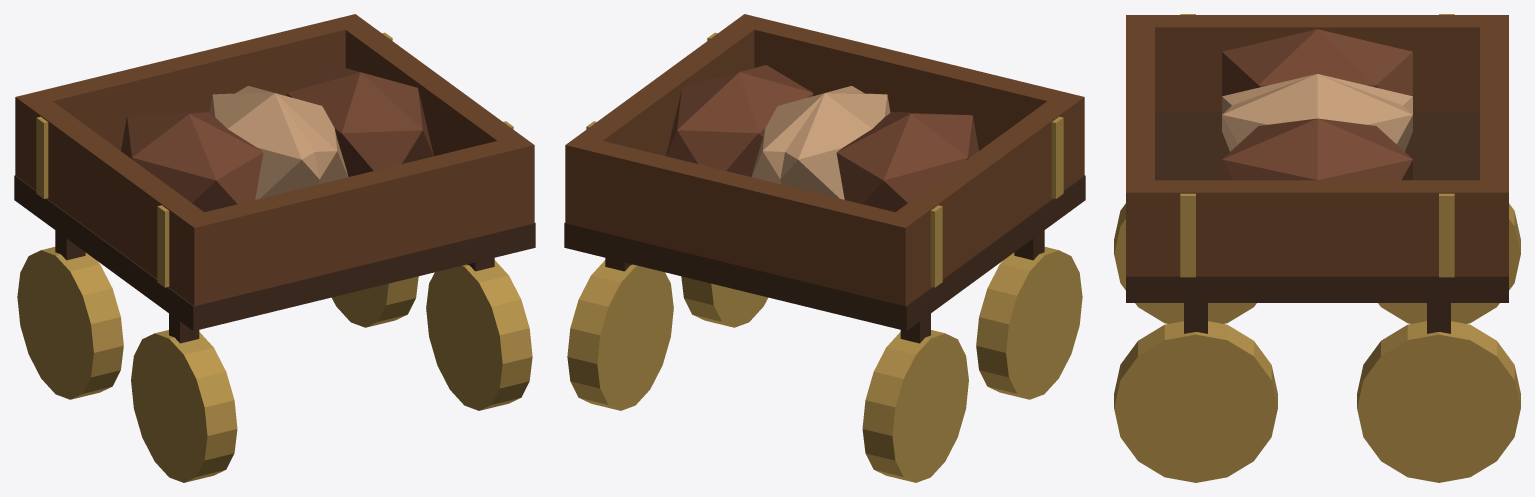
File: Desert_OreCartTunnel_Standard.glb
The picture shows the model from 3 angles, left to right: view 1: azimuth 30°, elevation 25°; view 2: azimuth 150°, elevation 25°; view 3: azimuth 270°, elevation 25°; orthographic projection. The views are drawn at different scales.
Parts seen in each view (by area): view 1: Desert_OreCartTunnel_Standard; view 2: Desert_OreCartTunnel_Standard; view 3: Desert_OreCartTunnel_Standard.
Boxes of the visible parts, x1=… form: Desert_OreCartTunnel_Standard: x1=14, y1=14, x2=535, y2=482; Desert_OreCartTunnel_Standard: x1=564, y1=14, x2=1085, y2=482; Desert_OreCartTunnel_Standard: x1=1114, y1=14, x2=1520, y2=482.
Size of the model in its own units: 3.26 by 2.71 by 3.08.
